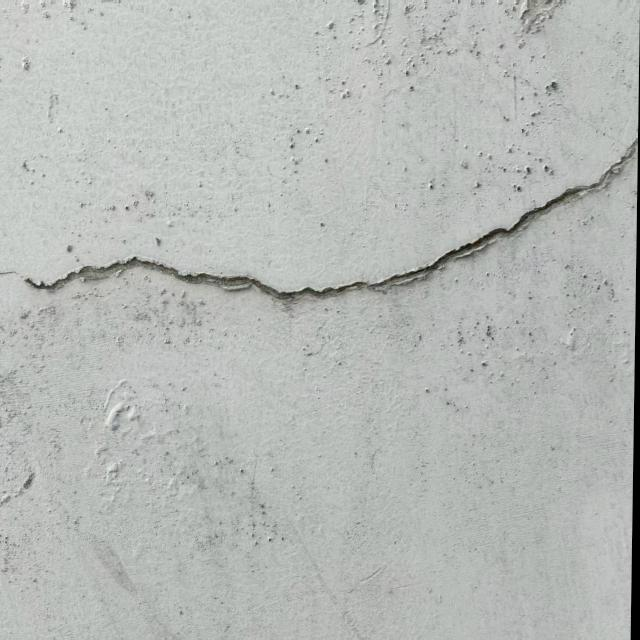crack: (3, 131, 632, 314)
